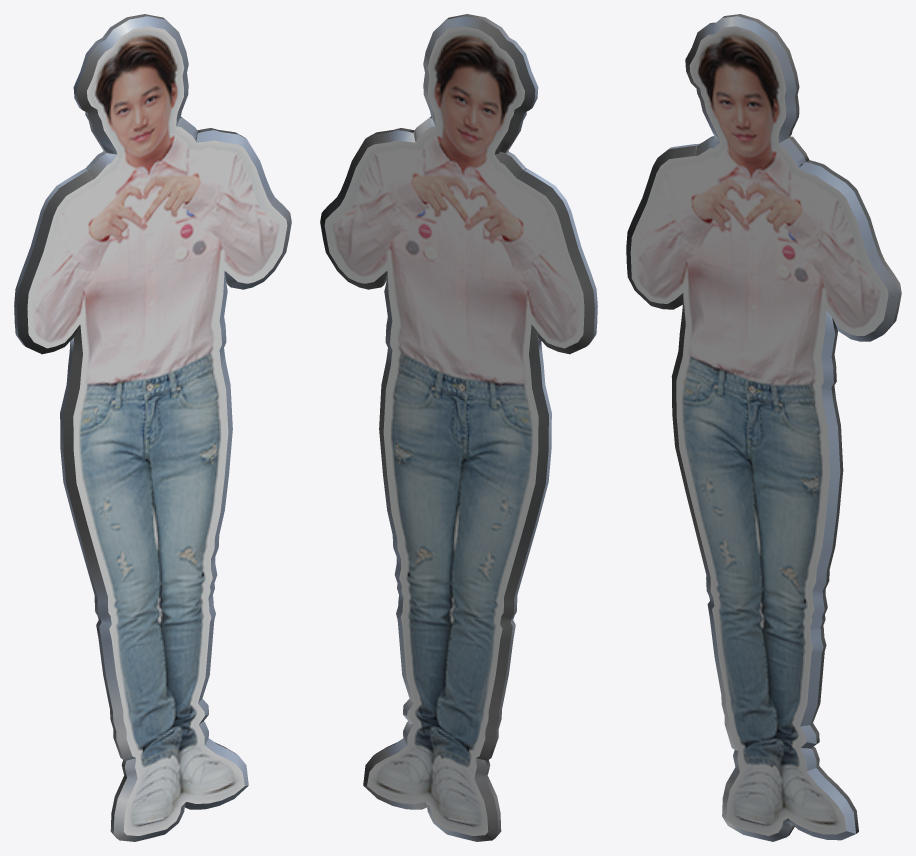
Rendered from panel_exok_6.FBX.
3 renders of one model, left to right at view 1: azimuth 30°, elevation 25°; view 2: azimuth 150°, elevation 25°; view 3: azimuth 330°, elevation 25°, orthographic.
Visible parts, largest first — view 1: panel_exok_6; view 2: panel_exok_6; view 3: panel_exok_6.
Boxes of the visible parts, <box> form: panel_exok_6: <box>14,14,291,841</box>; panel_exok_6: <box>320,14,597,841</box>; panel_exok_6: <box>626,14,901,841</box>.
Size of the model in its own units: 70.72 by 203 by 3.93.
Materials: 2 (2 with a texture image).
